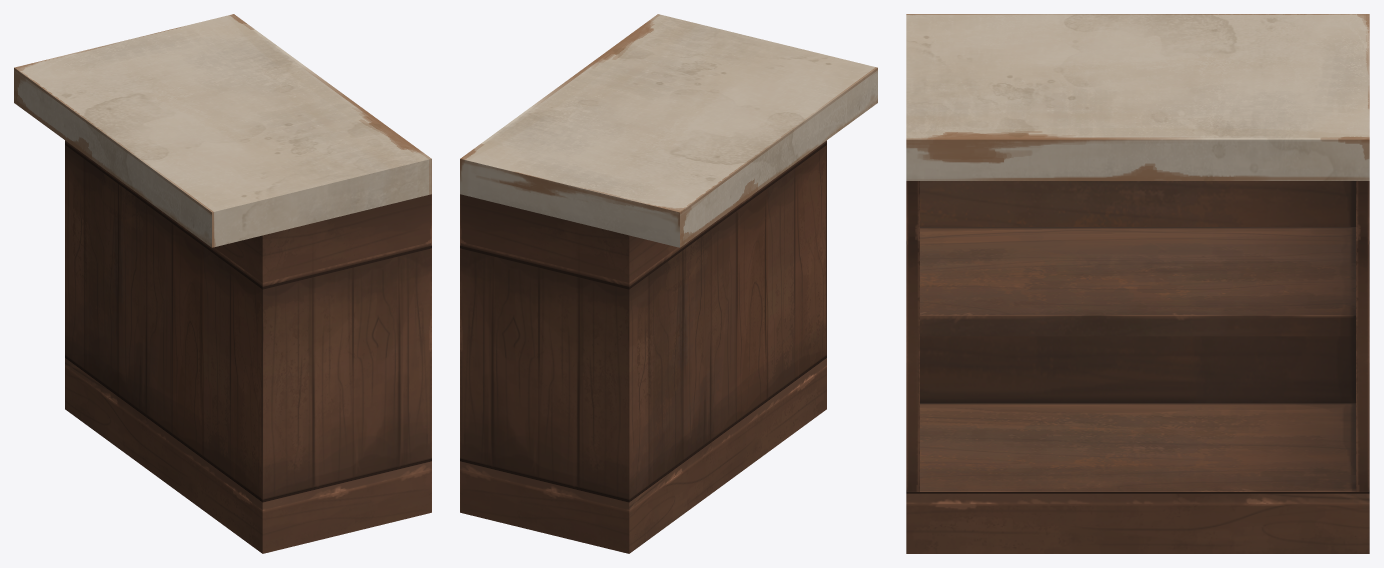
The model's file is store_counter02_1m.fbx.
The picture shows the model from 3 angles, left to right: view 1: azimuth 30°, elevation 25°; view 2: azimuth 150°, elevation 25°; view 3: azimuth 270°, elevation 25°; orthographic projection. The views are drawn at different scales.
Parts seen in each view (by area): view 1: store_counter02_1m; view 2: store_counter02_1m; view 3: store_counter02_1m.
Boxes of the visible parts, <box> form: store_counter02_1m: <box>14,14,431,553</box>; store_counter02_1m: <box>460,14,877,553</box>; store_counter02_1m: <box>906,14,1369,553</box>.
Bounding box in the file's own units: 65 × 100 × 101.
